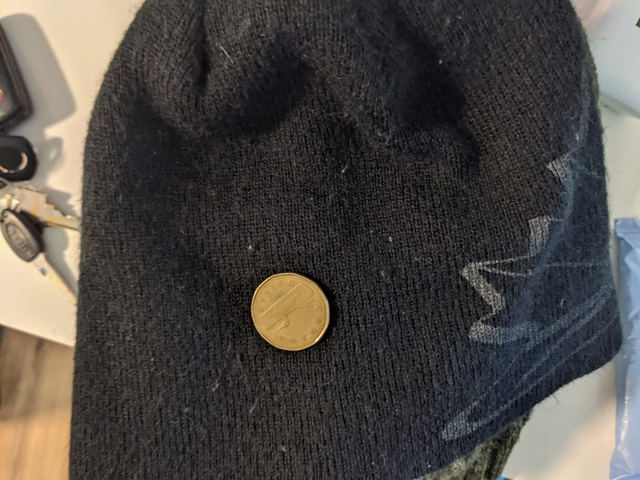loonie: (248, 265, 331, 350)
